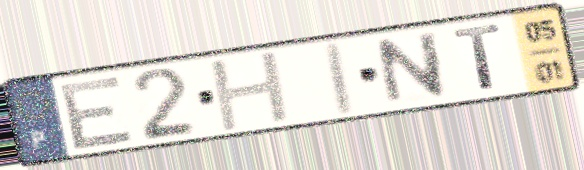2: (129, 65, 201, 144)
E: (57, 72, 139, 153)
H: (205, 47, 296, 135)
I: (324, 38, 360, 120)
N: (373, 28, 452, 109)
T: (449, 21, 506, 93)
